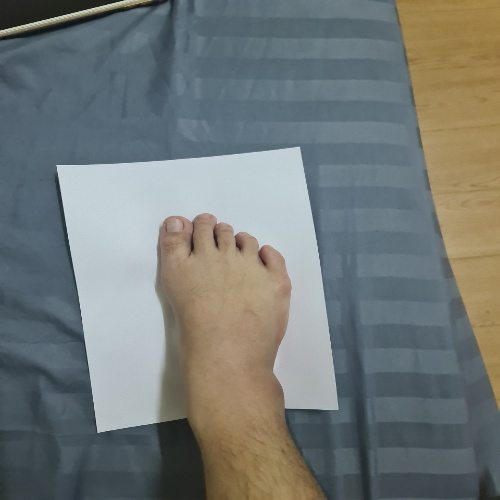Top_Foot: (30, 134, 369, 443)
